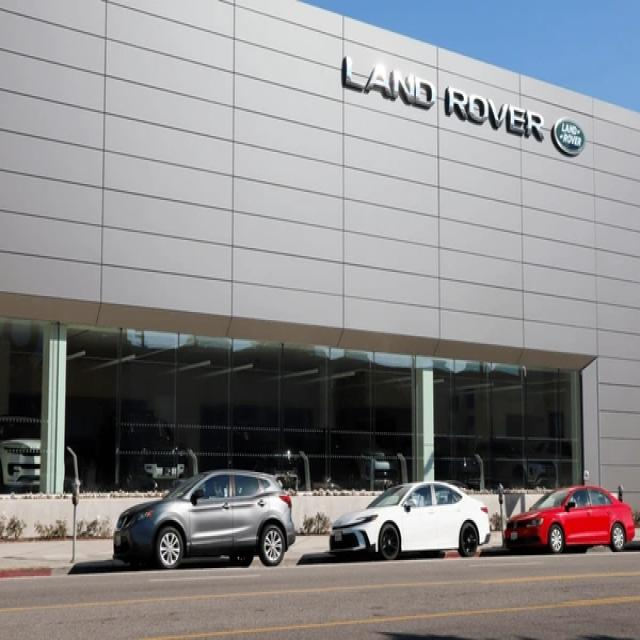landrover: (336, 51, 546, 142), (554, 118, 587, 152)
